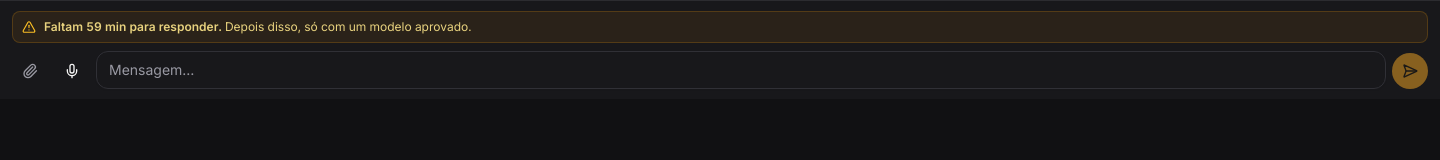
it: Composer — envio de anexos › 202 mescla o registro pendente e avisa sem anunciar sucesso
Type "mensagem incerta" into the text box labelled "Mensagem" at (741, 70), box [96, 51, 1386, 89]
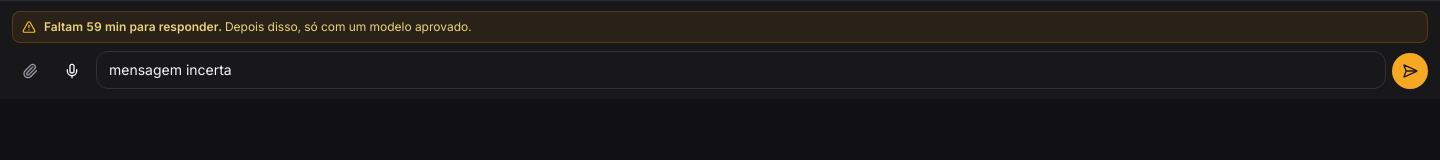
Click the button named "Enviar" at (1410, 71), box [1392, 53, 1428, 89]
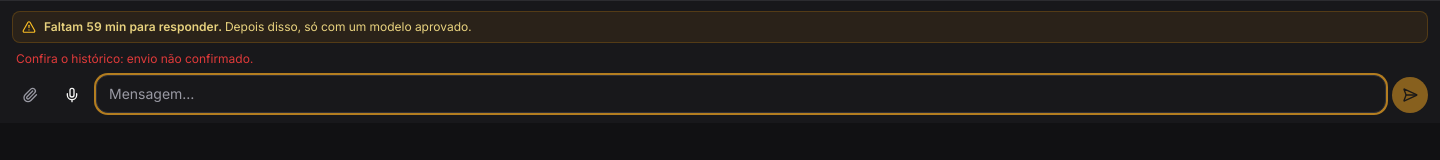
Result: the message shows "envio não confirmado" at [16, 51, 253, 66]
